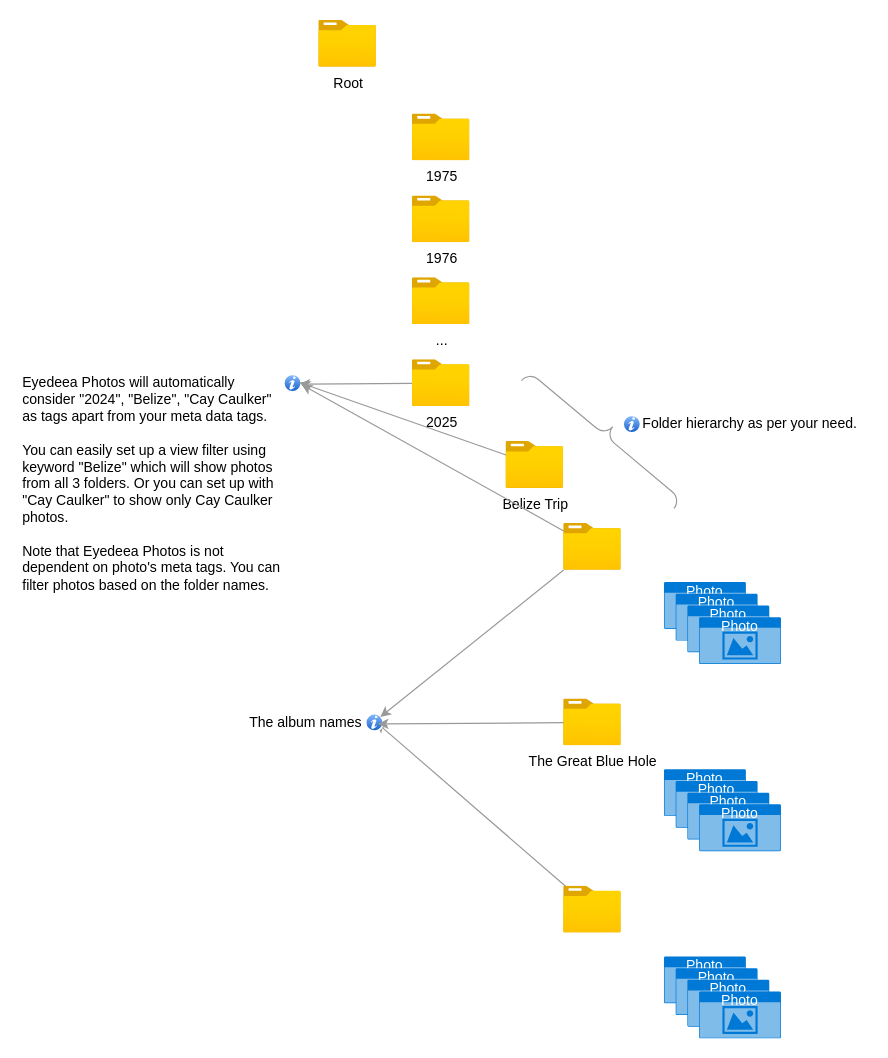
Some shapes in this 888 by 1058 pixel diagram are drawn without their labels. The centre of each missing label's shape, as x and y in pixels:
"Cay Caulker" belongs at [592,546].
"Placencia" belongs at [592,909].
